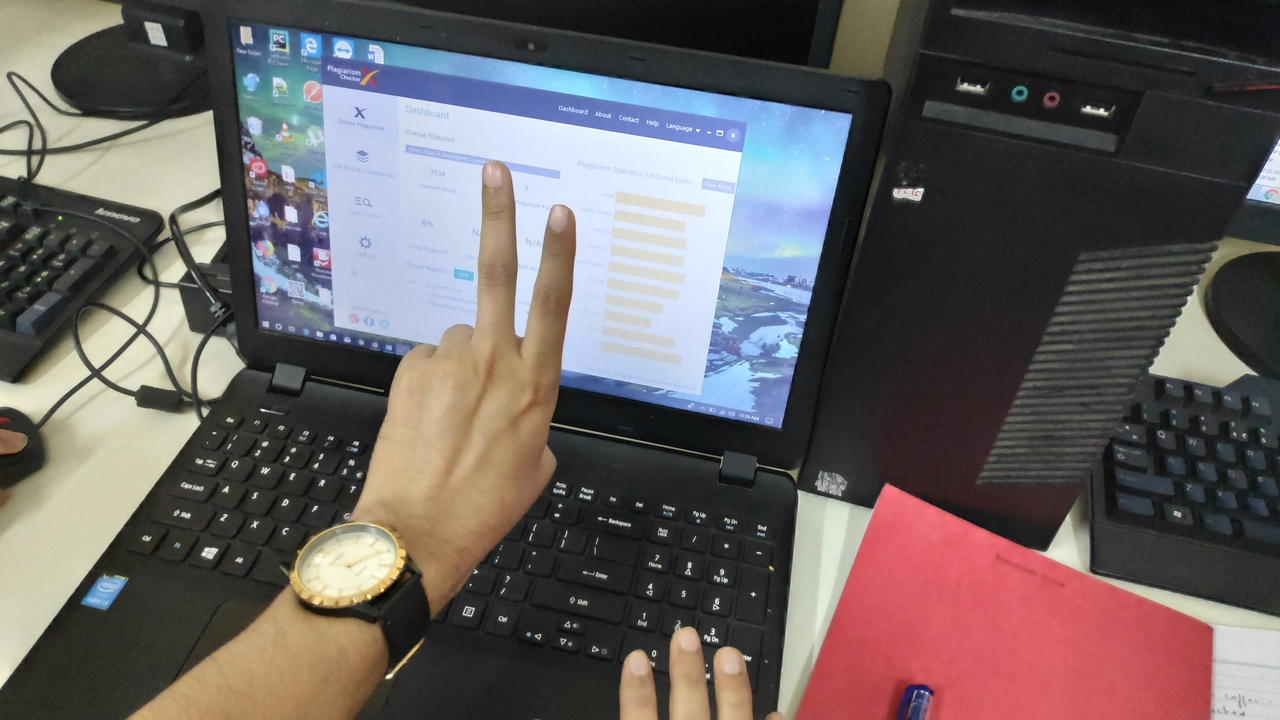fingertip: (468, 150, 520, 198), (532, 192, 584, 238)
